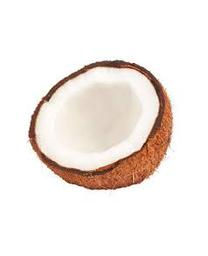coconut: (29, 61, 174, 191)
